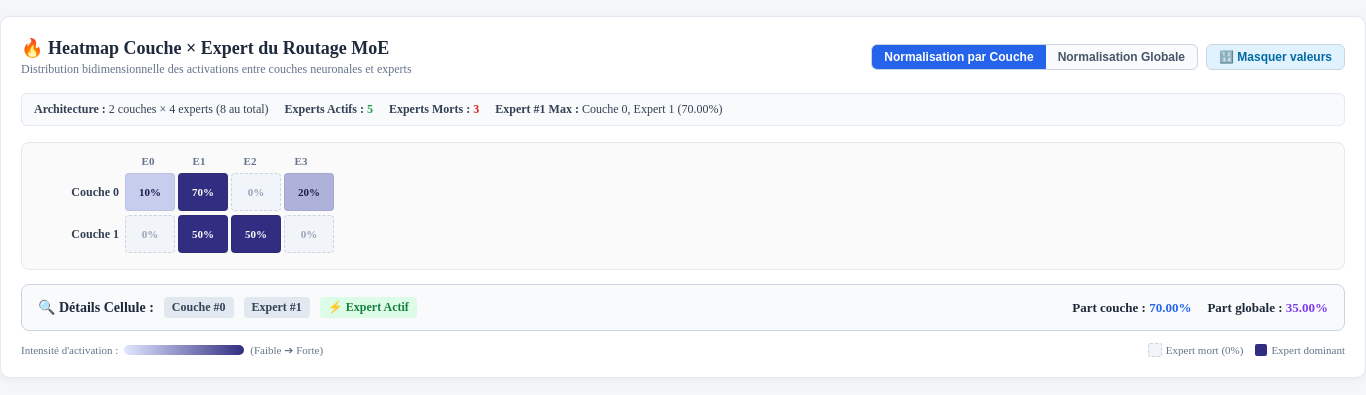
Test: LayerExpertHeatmap Component › toggles normalization mode between layer and global
Expected: the button with test id "btn-norm-layer" is shown, [872,45,1046,69]
Switch to global normalization
Click the button with test id "btn-norm-global" at [1121, 57], box [1046,45,1197,69]
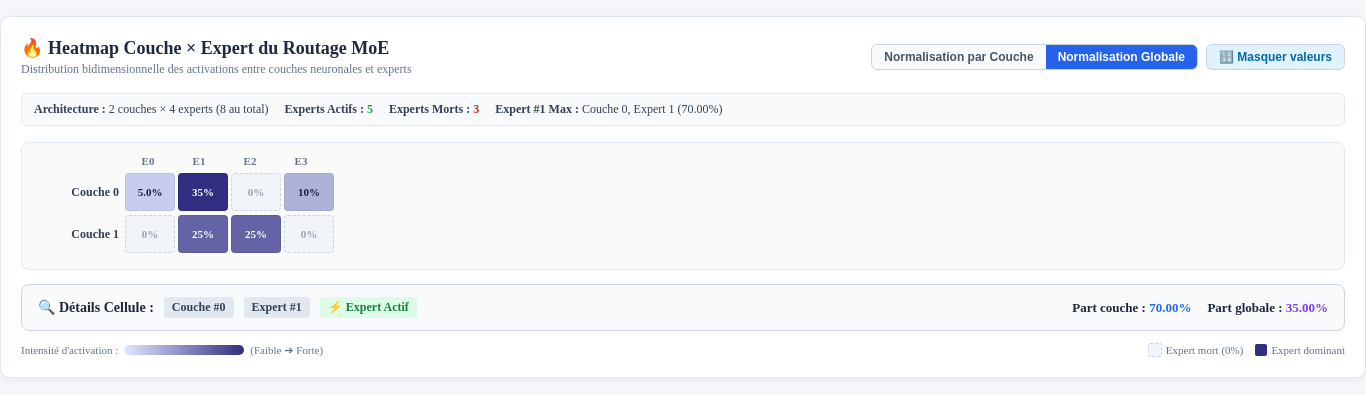
Now the cell with test id "heatmap-cell-0-1" reads "35%", box [192,186,214,198]
Switch back to layer normalization
Click the button with test id "btn-norm-layer" at [959, 57], box [872,45,1046,69]
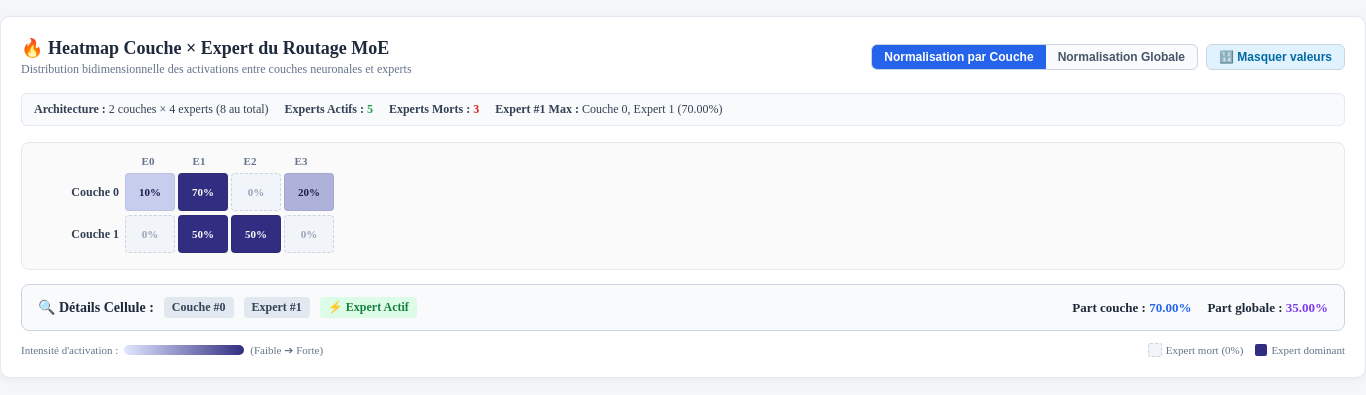
Now the cell with test id "heatmap-cell-0-1" reads "70%", box [192,186,214,198]
